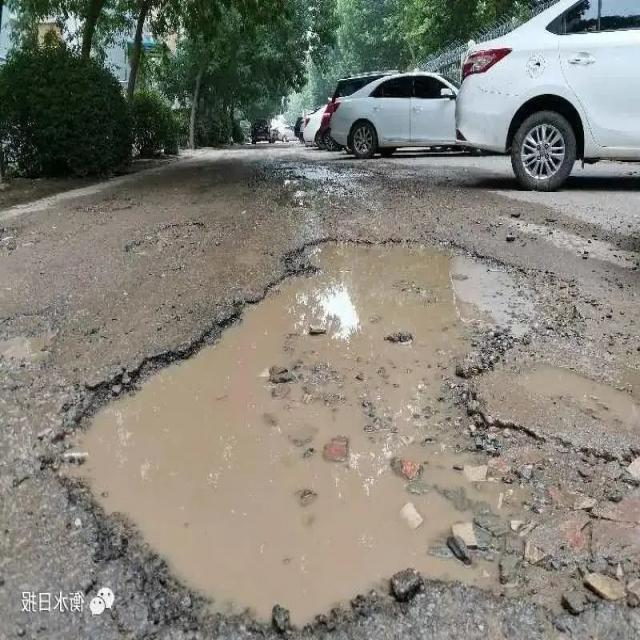pothole: (50, 235, 566, 627)
